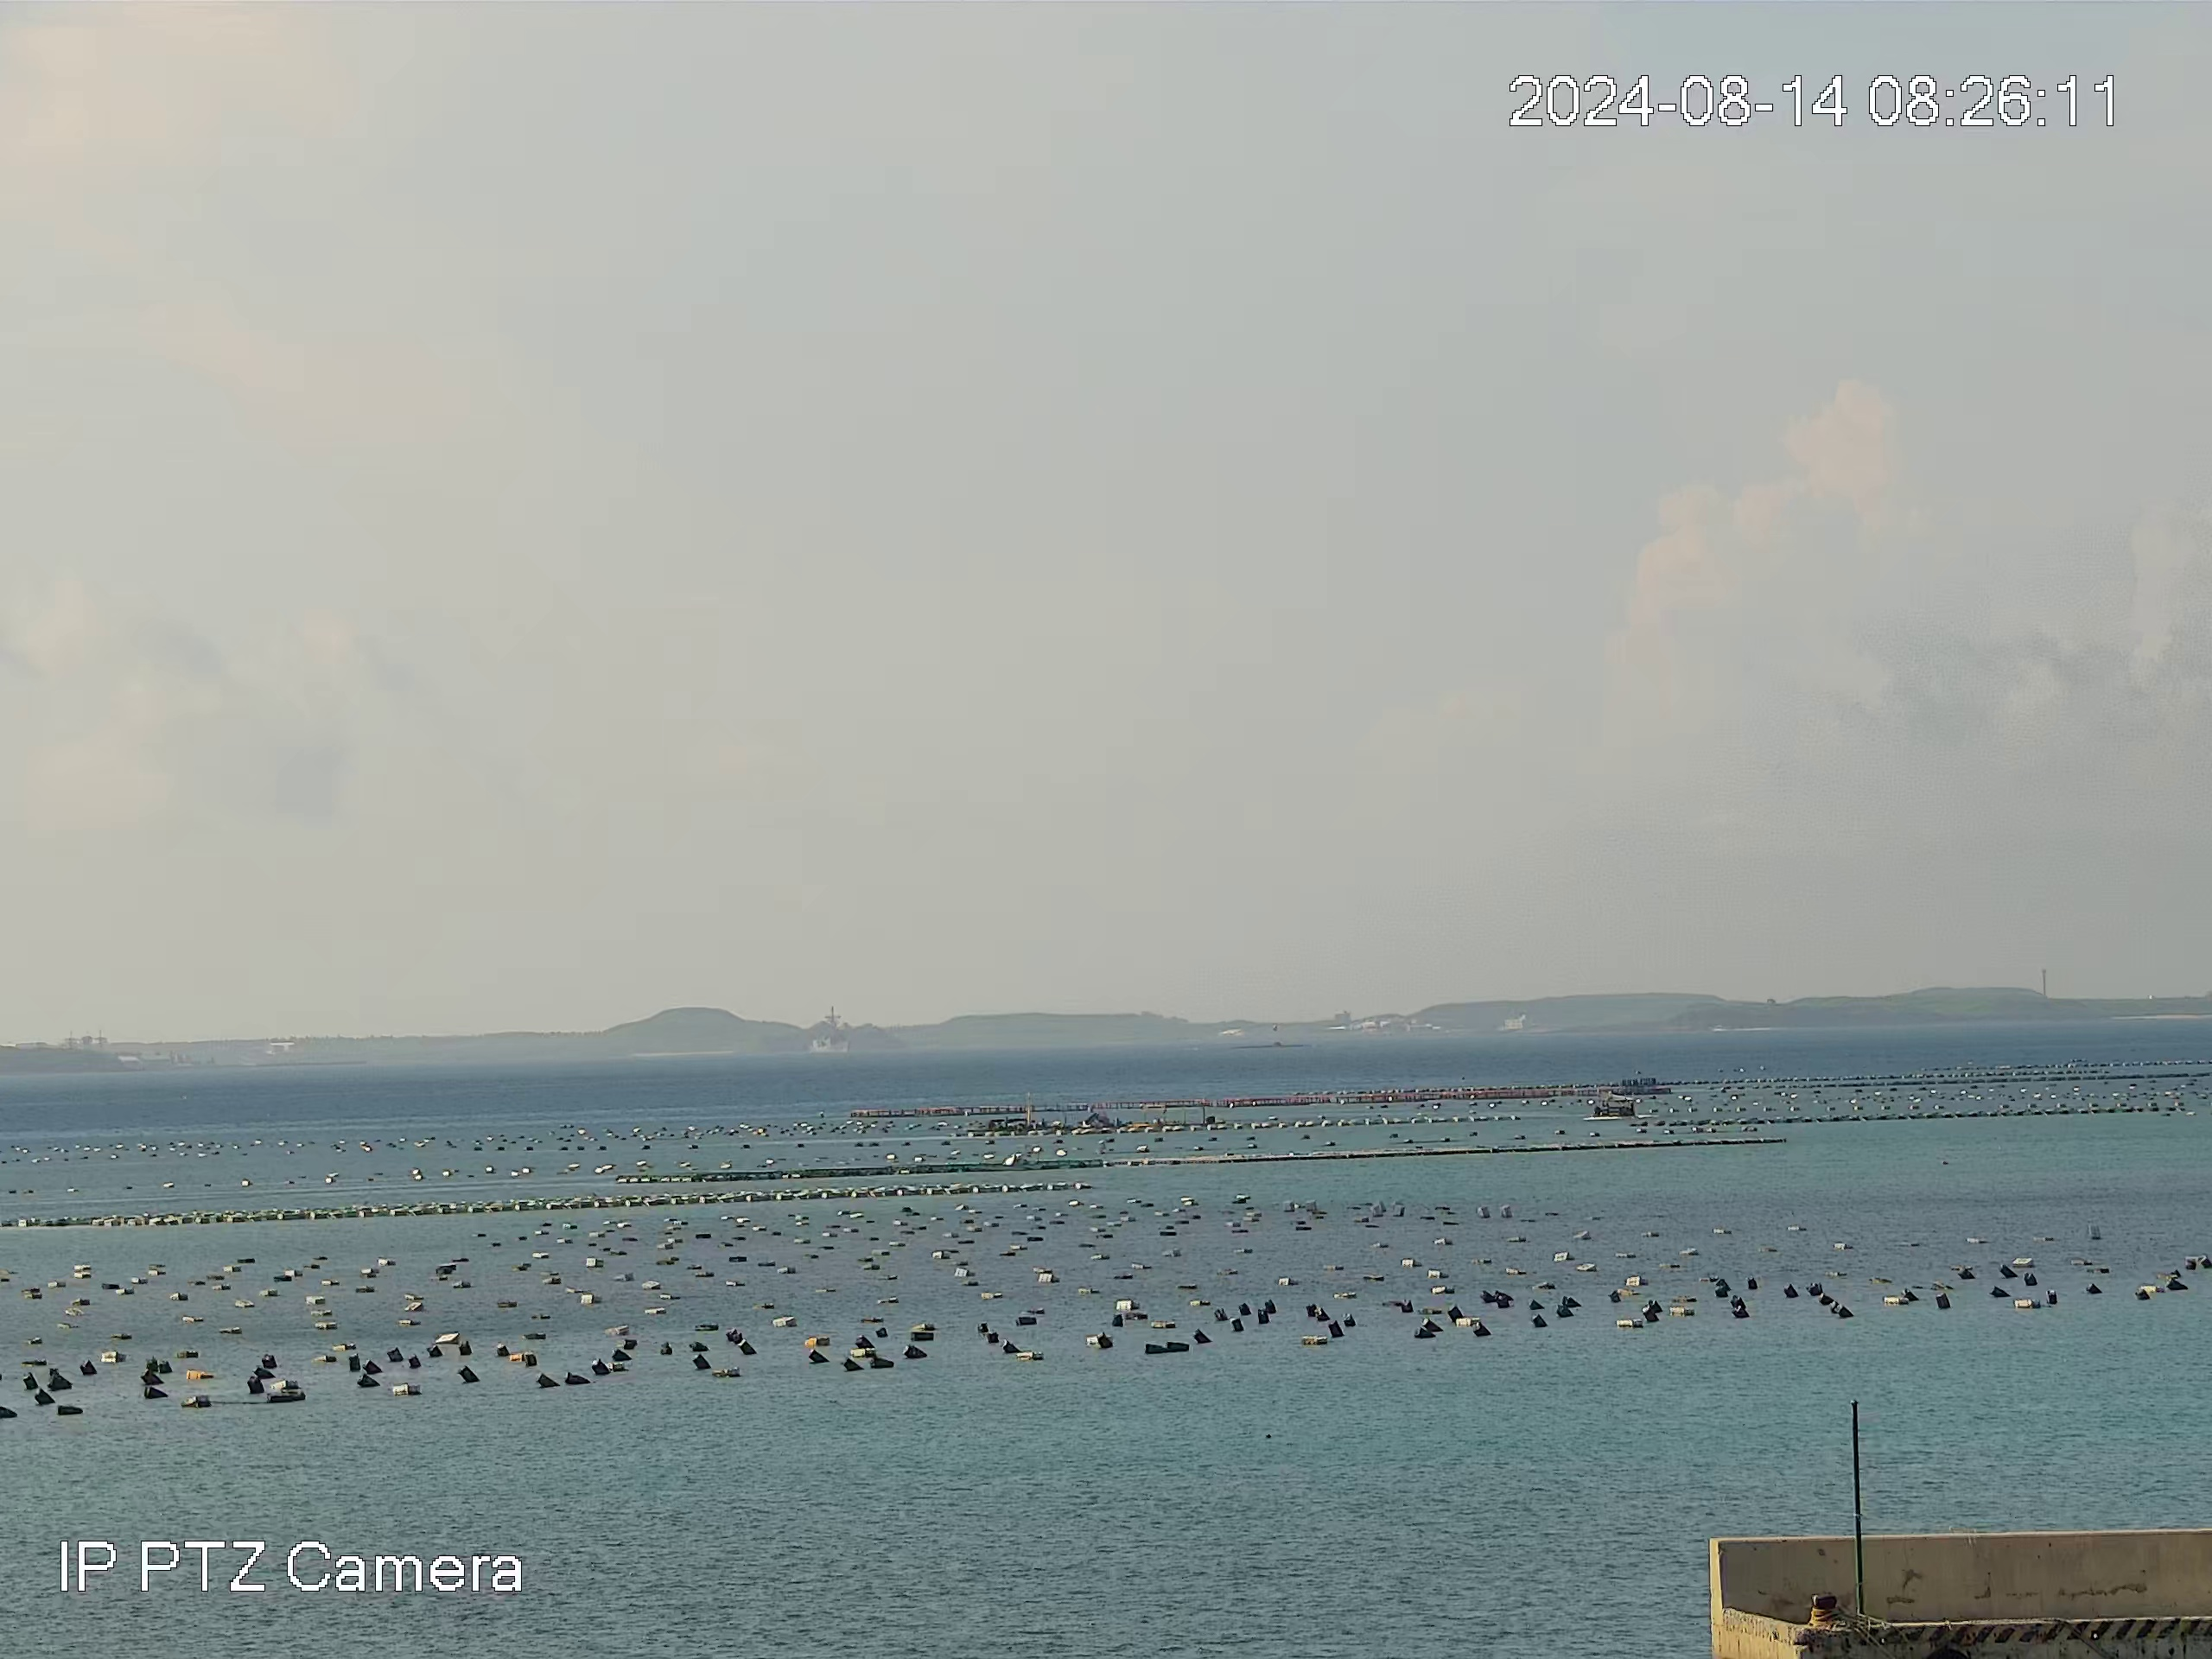boat: (1595, 1093, 1641, 1117)
